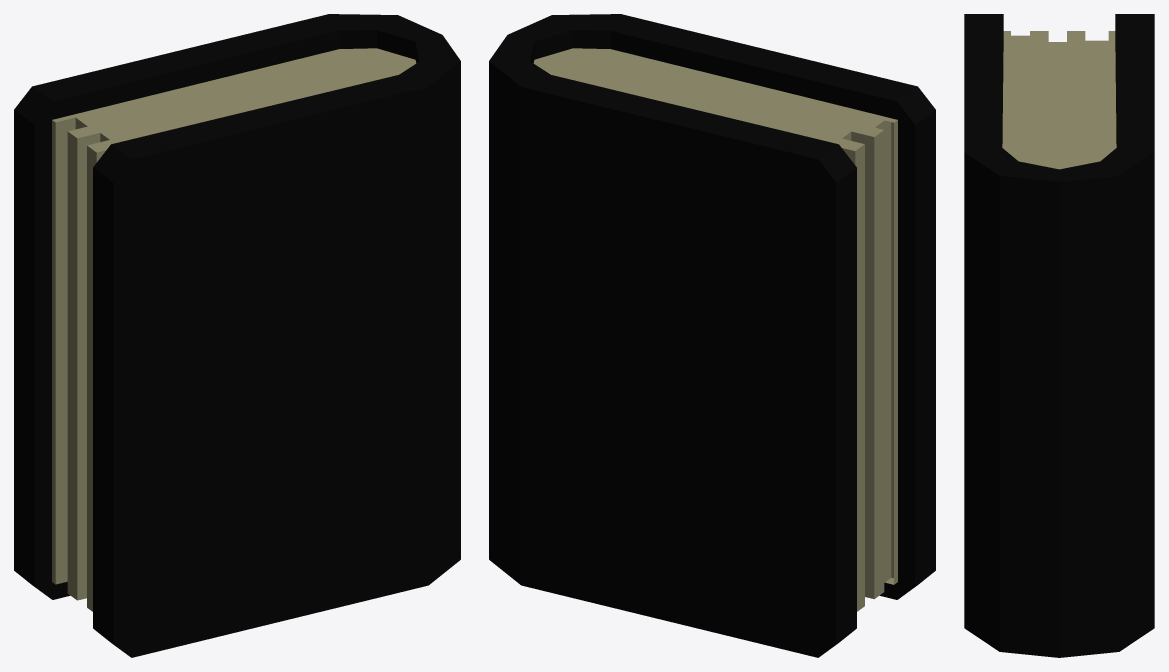
Rendered from book2.glb.
3 views of the same model, side by side, from view 1: azimuth 30°, elevation 25°; view 2: azimuth 150°, elevation 25°; view 3: azimuth 270°, elevation 25° (orthographic). The views are drawn at different scales.
Visible parts, largest first — view 1: cover, pages; view 2: cover, pages; view 3: cover, pages.
Part boxes in pixels (x1=…): cover: x1=14, y1=14, x2=460, y2=657; pages: x1=52, y1=48, x2=416, y2=611; cover: x1=489, y1=14, x2=935, y2=657; pages: x1=533, y1=48, x2=897, y2=611; cover: x1=964, y1=14, x2=1154, y2=657; pages: x1=1002, y1=31, x2=1116, y2=169.
Size of the model in its own units: 1.59 by 2 by 0.7242.
